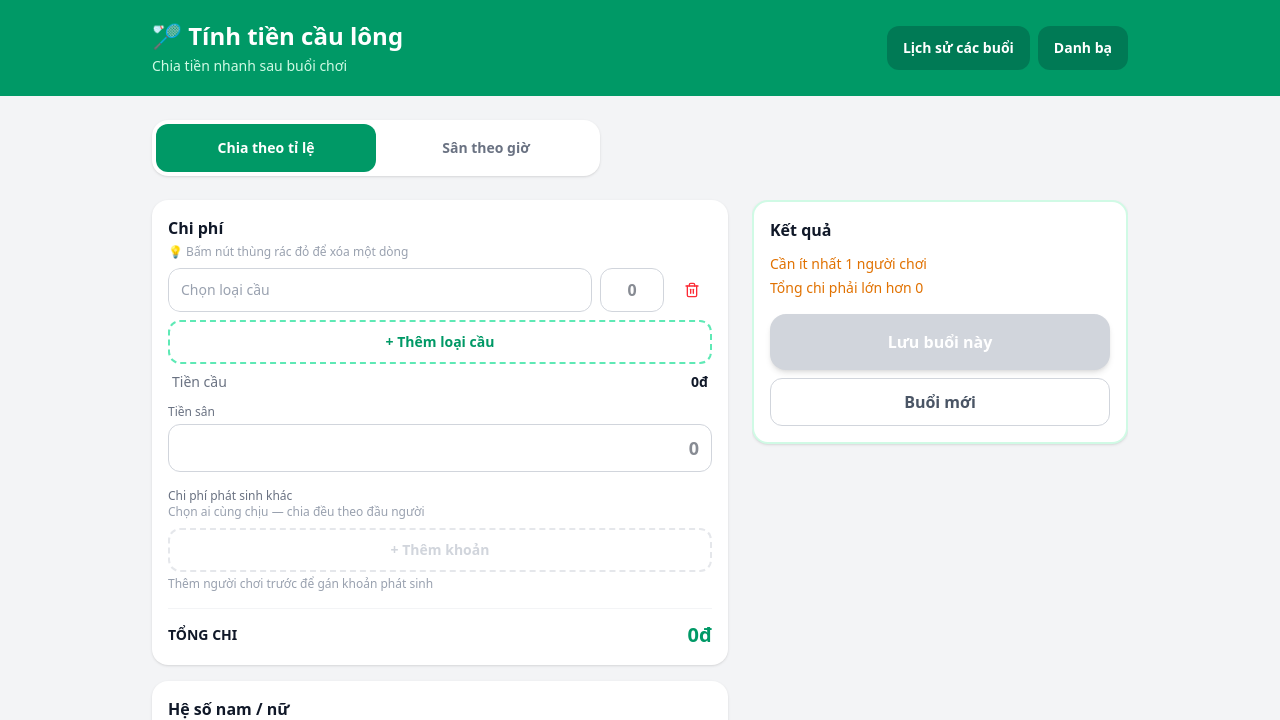
Scenario: "Buổi mới" on an already-empty session resets silently — nothing to undo
This screenshot has width=1280, height=720.
Click the button "Buổi mới" at (940, 402), box x1=770 y1=378 x2=1110 y2=426
(page scrolled)
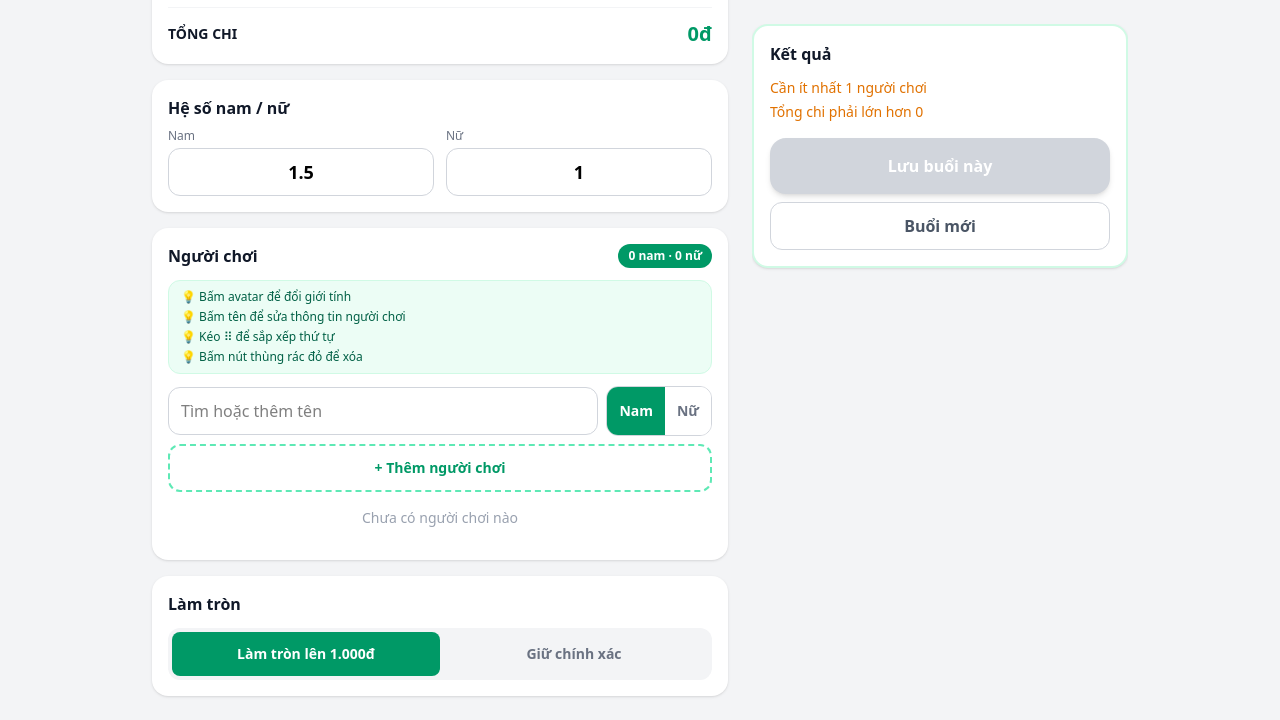
Expected: the text "Chưa có người chơi nào" is shown, x1=362 y1=508 x2=518 y2=527
